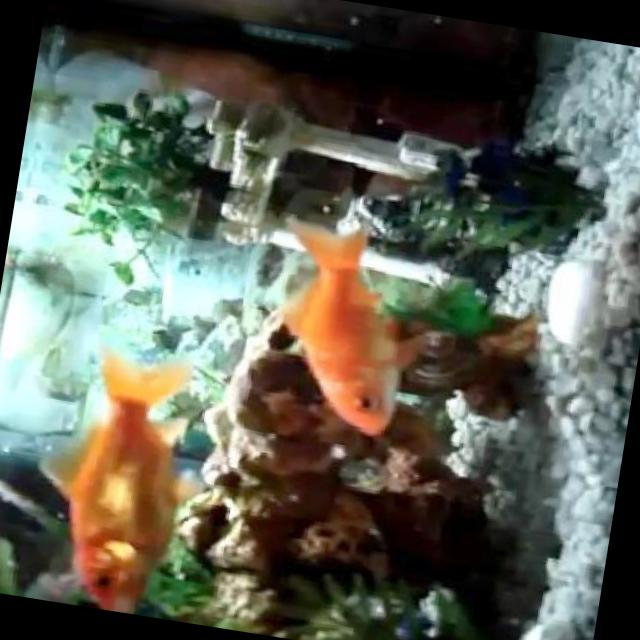GoldFish: (21, 338, 218, 621), (266, 217, 442, 440)
